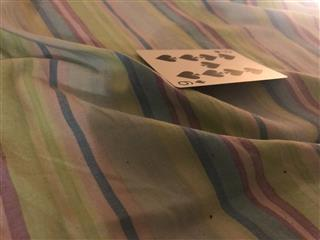NineOfSpades: (135, 47, 288, 87)
